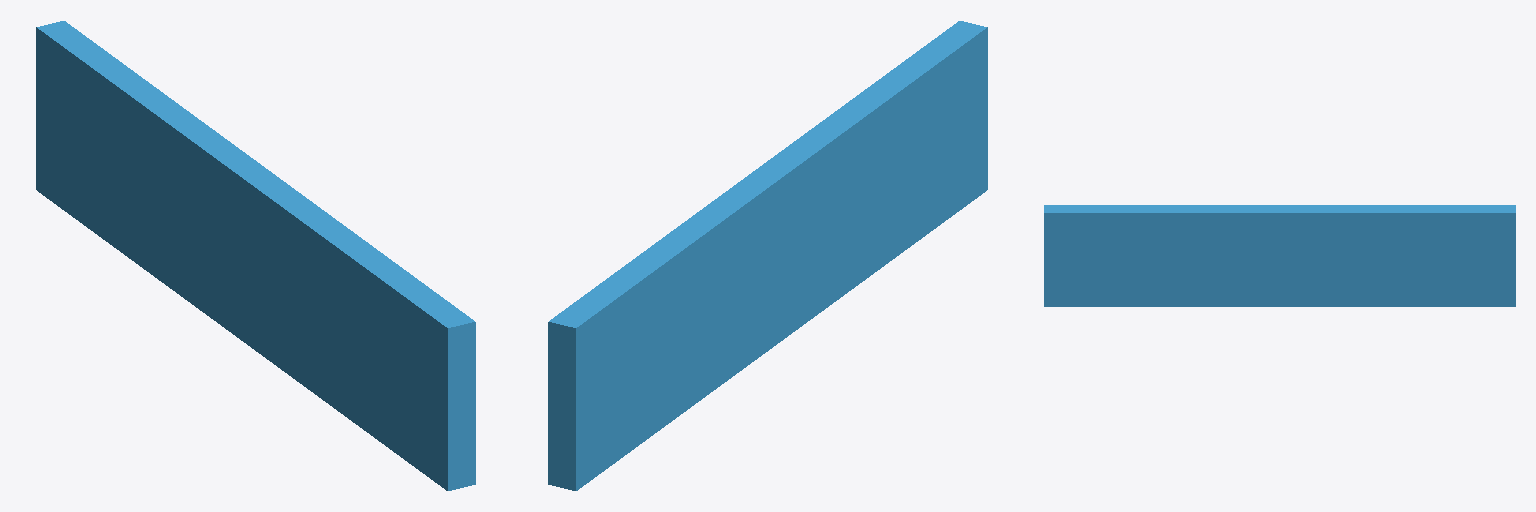
robot.urdf — box_63:
<?xml version="1.0" encoding="utf-8"?>    
    
    <robot name="box_63">
        <link name="box_63">    
            <fem>
                <origin rpy="0.0 0.0 0.0" xyz="0 0 0" />
                <density value="100" />
                <youngs value="8769"/>
                <poissons value="0.3"/>
                <damping value="0.0" /> 
                <attachDistance value="0.01"/>
                <tetmesh filename="../../../../Custom_mesh/physical_dvrk/multi_box_10kPa/box_63.tet"/>
                <scale value="1.0"/>
            </fem>
        </link>
        
        <link name="fix_frame">
            <visual>
                <origin xyz="-10.100 0.0 0.0"/>              
                <geometry>
                    <box size="0.005 0.128 0.028"/>
                </geometry>
            </visual>
            <collision>
                <origin xyz="-0.100 0.0 0.0"/>              
                <geometry>
                    <box size="0.005 0.128 0.028"/>
                </geometry>
            </collision>
            <inertial>
                <mass value="500000"/>
                <inertia ixx="0.05" ixy="0.0" ixz="0.0" iyy="0.05" iyz="0.0" izz="0.05"/>
            </inertial>
        </link>
        
        <joint name = "attach" type = "fixed">
            <origin xyz = "0.0 0.0 0.0" rpy = "0 0 0"/>
            <parent link = "box_63"/>
            <child link = "fix_frame"/>
        </joint>  
        
    </robot>
    

--- Render facts (derived) ---
3 views of the same robot in one strip: view 1: azimuth 30°, elevation 25°; view 2: azimuth 150°, elevation 25°; view 3: azimuth 270°, elevation 25° (orthographic).
Model box_63 with 2 links and 1 joints (1 fixed), rooted at box_63, posed every joint at zero.
Visible links, largest first — view 1: fix_frame; view 2: fix_frame; view 3: fix_frame.
Link boxes in pixels (x1,y1,x2,y2): fix_frame: (36, 21, 475, 490); fix_frame: (548, 21, 987, 490); fix_frame: (1044, 205, 1515, 306).
Size in the robot's own frame: 0.005 by 0.128 by 0.028 metres.
Geometry: primitives only (box / cylinder / sphere), no mesh files.